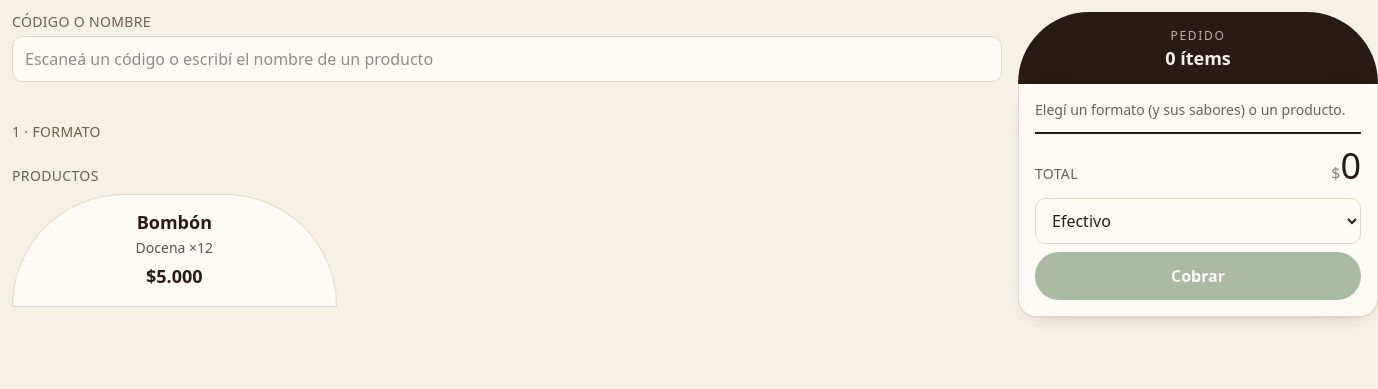
Test: FormularioTicket: después de cobrar › el aviso vuelve si se agrega un ítem y se lo quita
Click the button "Bombón Docena ×12 $5.000" at (174, 250), box [12,194,337,306]
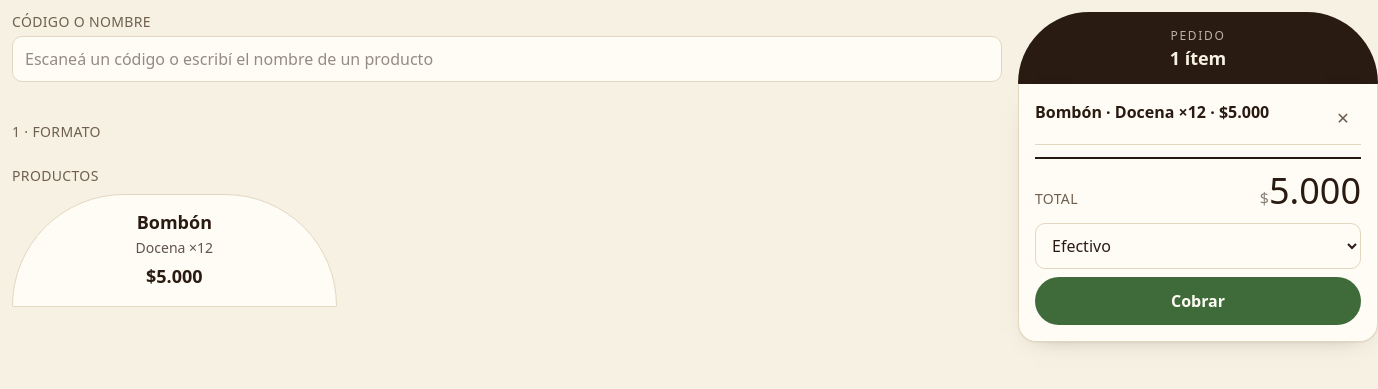
Submit the form "Cobrar", box [1035,223,1361,325]
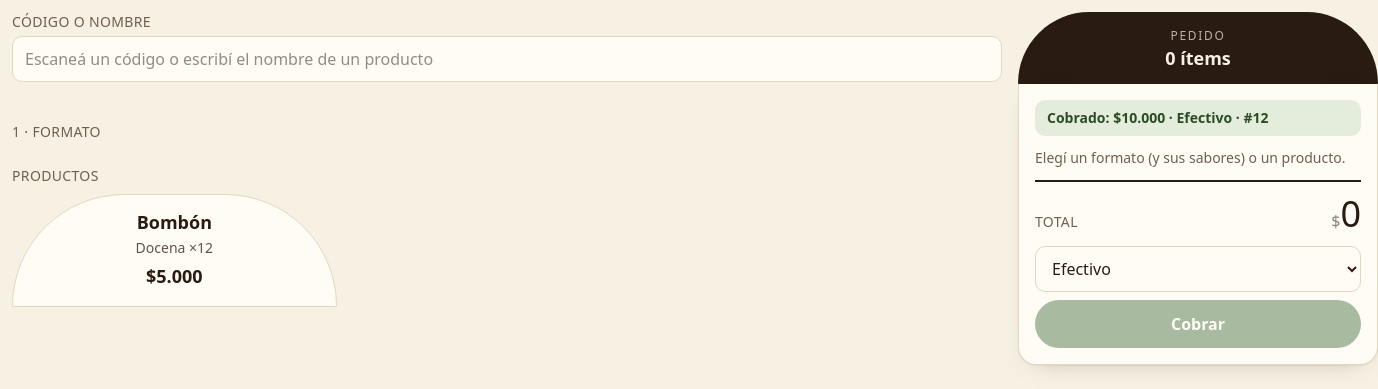
Expected: the message does not show ""
Click the button "Bombón Docena ×12 $5.000" at (174, 250), box [12,194,337,306]
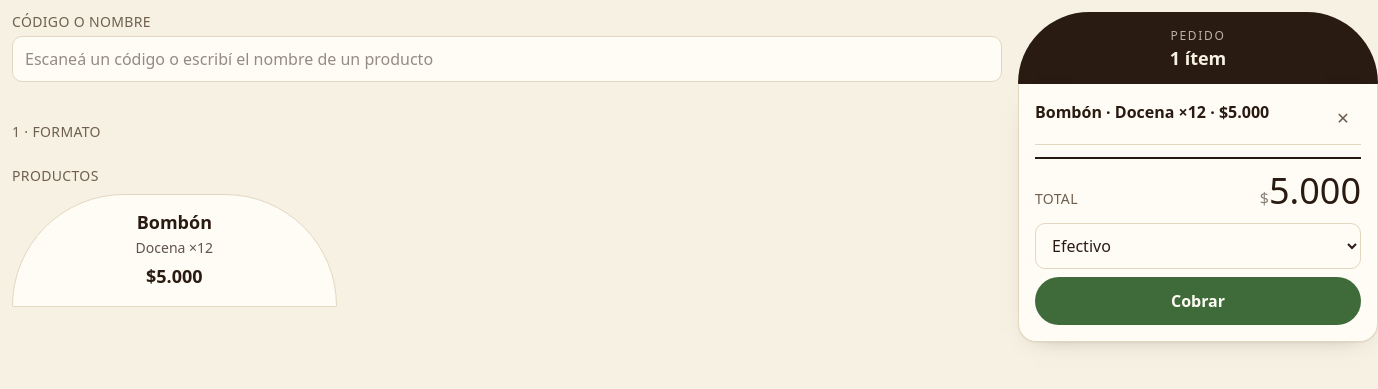
Click the button named "Quitar" at (1343, 118), box [1325,100,1361,136]
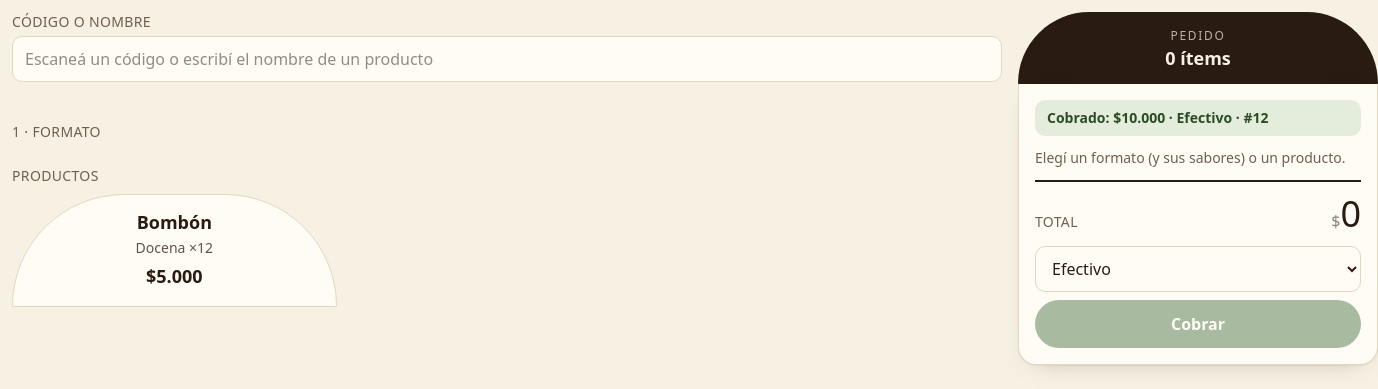
Result: the message reads "Cobrado: $10.000 · Efectivo · #12" at [1035,100,1361,136]
